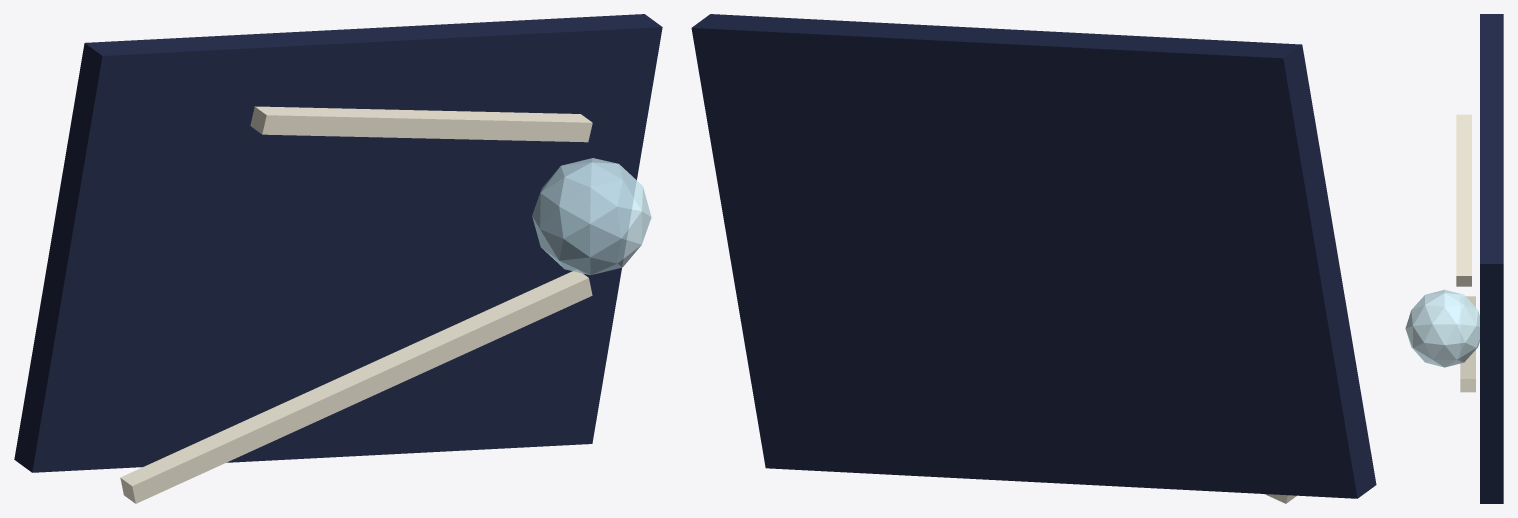
Rendered from 02_world_prop_polish.glb.
3 renders of one model, left to right at view 1: azimuth 30°, elevation 25°; view 2: azimuth 150°, elevation 25°; view 3: azimuth 270°, elevation 25°, orthographic. The views are drawn at different scales.
Visible parts, largest first — view 1: object_overlay_plate, edge_wear_a, glow_socket, edge_wear_b; view 2: object_overlay_plate; view 3: object_overlay_plate, glow_socket, edge_wear_b, edge_wear_a.
Part boxes in pixels (x1=…): object_overlay_plate: x1=14, y1=14, x2=662, y2=472; edge_wear_a: x1=120, y1=270, x2=592, y2=503; glow_socket: x1=532, y1=158, x2=651, y2=275; edge_wear_b: x1=250, y1=106, x2=592, y2=142; object_overlay_plate: x1=691, y1=14, x2=1376, y2=498; object_overlay_plate: x1=1480, y1=14, x2=1503, y2=503; glow_socket: x1=1405, y1=289, x2=1479, y2=367; edge_wear_b: x1=1456, y1=114, x2=1471, y2=286; edge_wear_a: x1=1460, y1=296, x2=1475, y2=392.
Size of the model in its own units: 1.22 by 0.9366 by 0.25.
